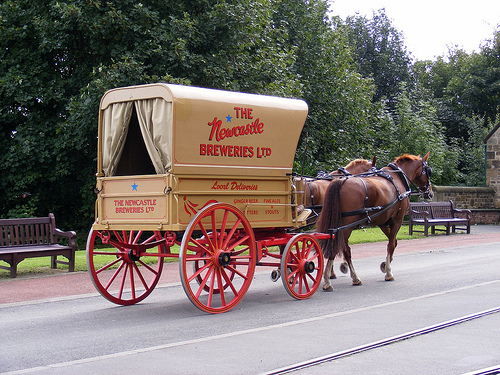horse: (316, 152, 432, 291), (278, 155, 378, 285)
